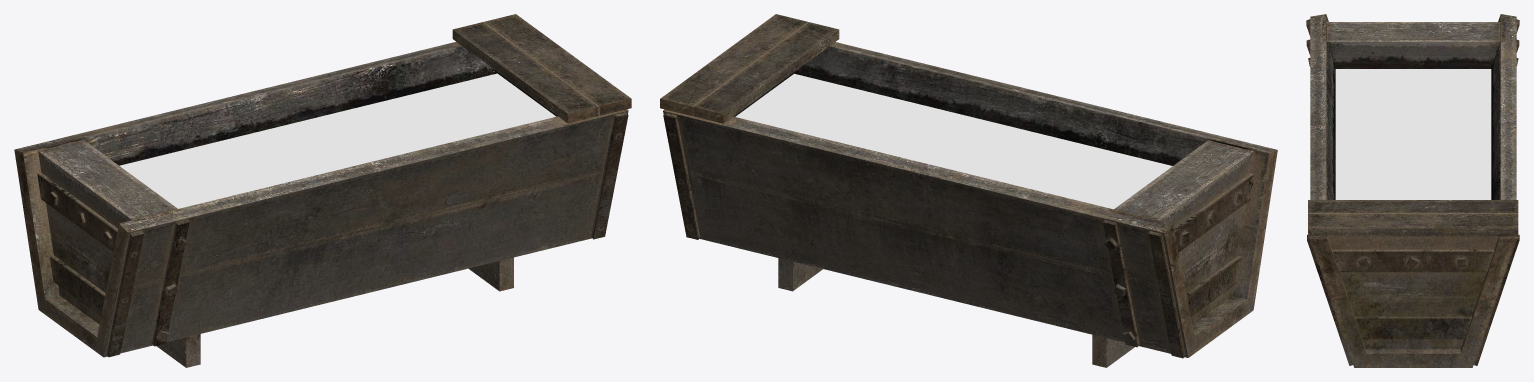
Rendered from Water_Trough.gltf.
3 renders of one model, left to right at view 1: azimuth 30°, elevation 25°; view 2: azimuth 150°, elevation 25°; view 3: azimuth 270°, elevation 25°, orthographic. The views are drawn at different scales.
Parts seen in each view (by area): view 1: Water_Trough(Clone), Water; view 2: Water_Trough(Clone), Water; view 3: Water_Trough(Clone), Water.
Boxes of the visible parts, <box> form: Water_Trough(Clone): <box>14,14,631,367</box>; Water: <box>119,73,555,208</box>; Water_Trough(Clone): <box>660,14,1277,367</box>; Water: <box>735,73,1172,209</box>; Water_Trough(Clone): <box>1306,14,1519,367</box>; Water: <box>1335,69,1491,199</box>.
Bounding box in the file's own units: 1.47 × 0.5278 × 0.5946.
2 materials, 1 textured.
